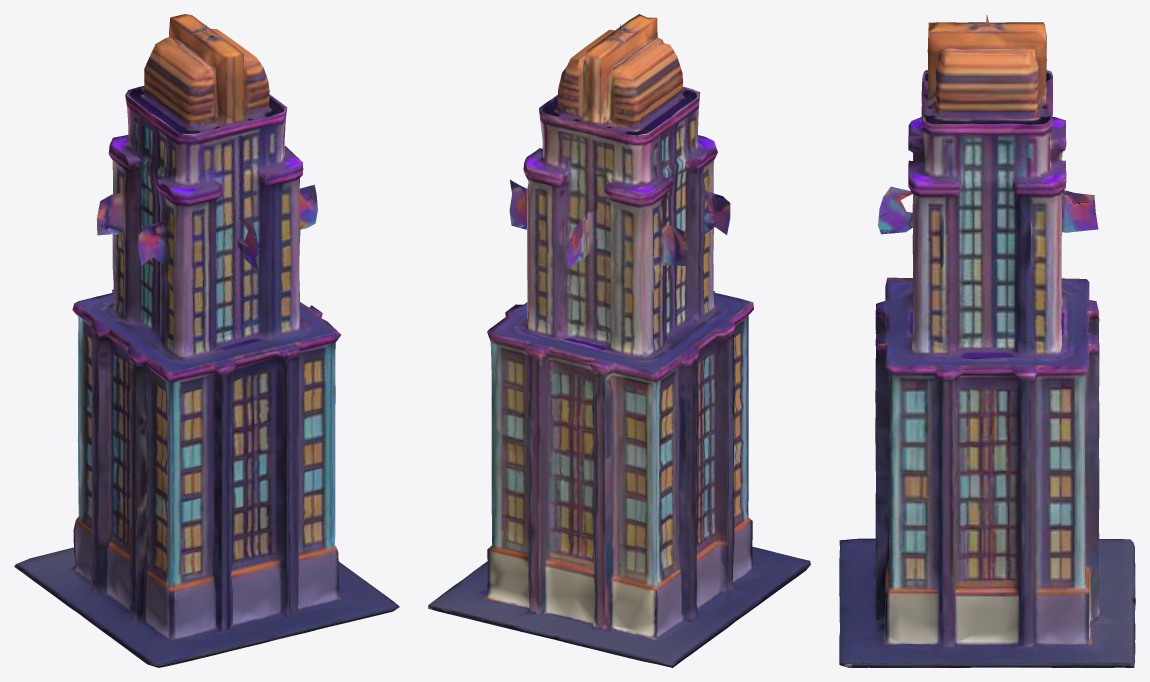
Rendered from tower-01.glb.
3 views of the same model, side by side, from view 1: azimuth 30°, elevation 25°; view 2: azimuth 150°, elevation 25°; view 3: azimuth 270°, elevation 25° (orthographic). The views are drawn at different scales.
Visible parts, largest first — view 1: model; view 2: model; view 3: model.
Boxes of the visible parts, x1,y1,x2,y2 form: model: (14, 14, 399, 667); model: (428, 14, 810, 667); model: (839, 15, 1135, 667).
Bounding box in the file's own units: 0.8199 × 1.8 × 0.819.
1 material, 1 textured.
